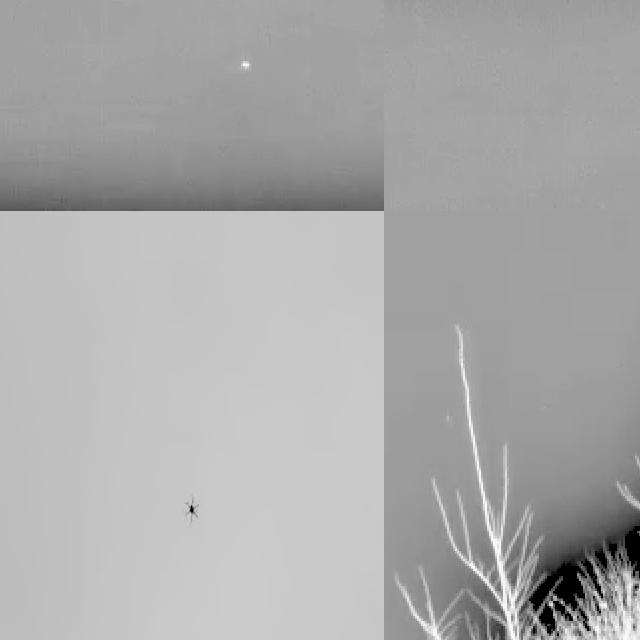0: (431, 408, 455, 428)
1: (229, 55, 255, 82), (582, 201, 616, 211)
drone: (180, 488, 203, 526)
